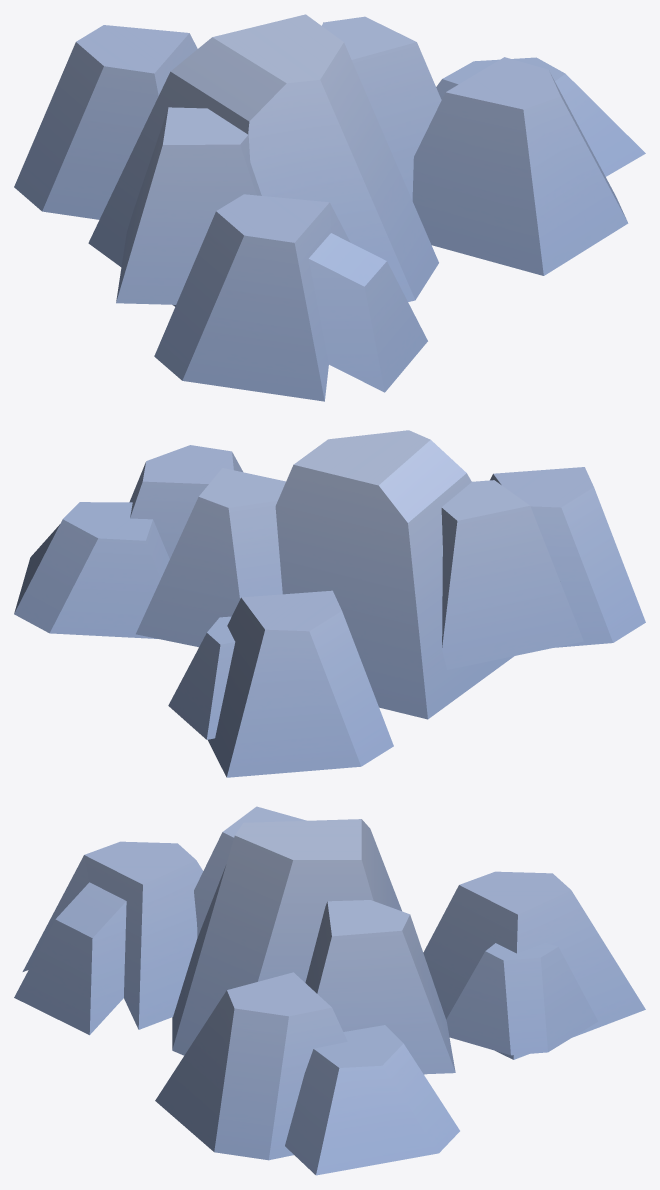
Rendered from mdl_smallRock.fbx.
3 renders of one model, top to bottom at view 1: azimuth 30°, elevation 25°; view 2: azimuth 150°, elevation 25°; view 3: azimuth 270°, elevation 25°, orthographic. The views are drawn at different scales.
Parts seen in each view (by area): view 1: mdl_smallRock; view 2: mdl_smallRock; view 3: mdl_smallRock.
Boxes of the visible parts, <box> form: mdl_smallRock: <box>14,14,645,401</box>; mdl_smallRock: <box>14,430,645,777</box>; mdl_smallRock: <box>14,806,645,1175</box>.
Size of the model in its own units: 3.71 by 1.31 by 3.96.
